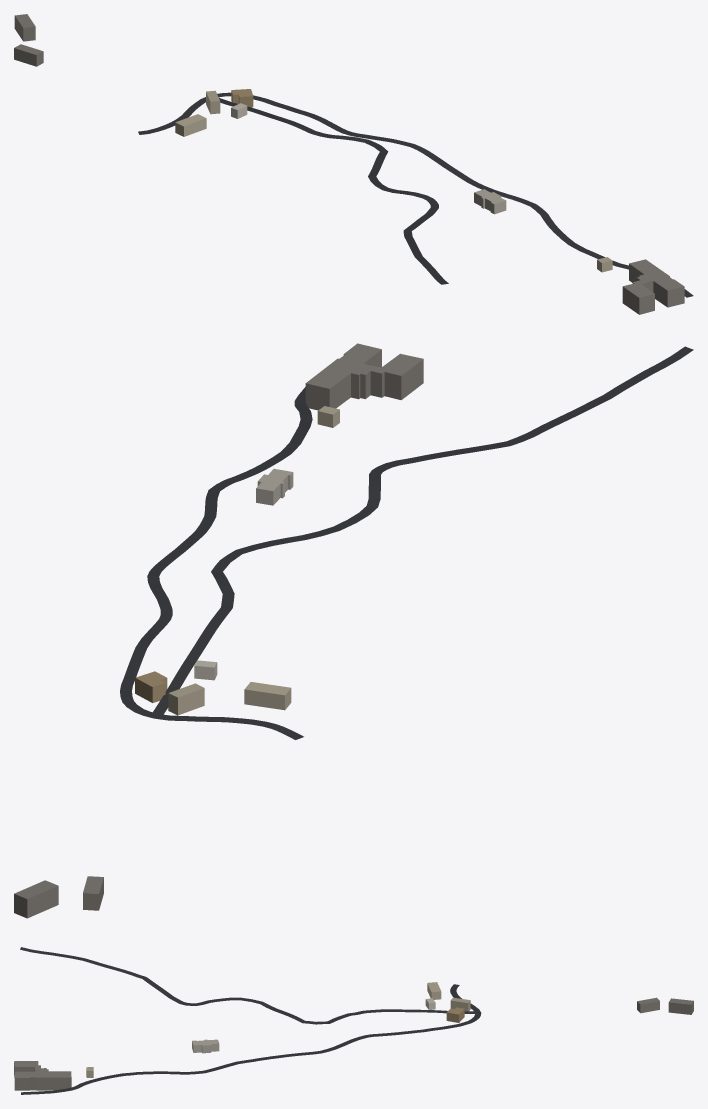
The model's file is tile_11_0.glb.
3 views of the same model, one above another, from view 1: azimuth 30°, elevation 25°; view 2: azimuth 150°, elevation 25°; view 3: azimuth 270°, elevation 25° (orthographic). The views are drawn at different scales.
Visible parts, largest first — view 1: bld_11_0, road_11_0; view 2: bld_11_0, road_11_0; view 3: road_11_0, bld_11_0.
Boxes of the visible parts, x1,y1,x2,y2 form: bld_11_0: (14,14,684,314); road_11_0: (138,92,693,297); bld_11_0: (14,343,423,918); road_11_0: (120,346,693,739); road_11_0: (20,947,481,1094); bld_11_0: (14,982,693,1090).
Size of the model in its own units: 258 by 75.19 by 752.
